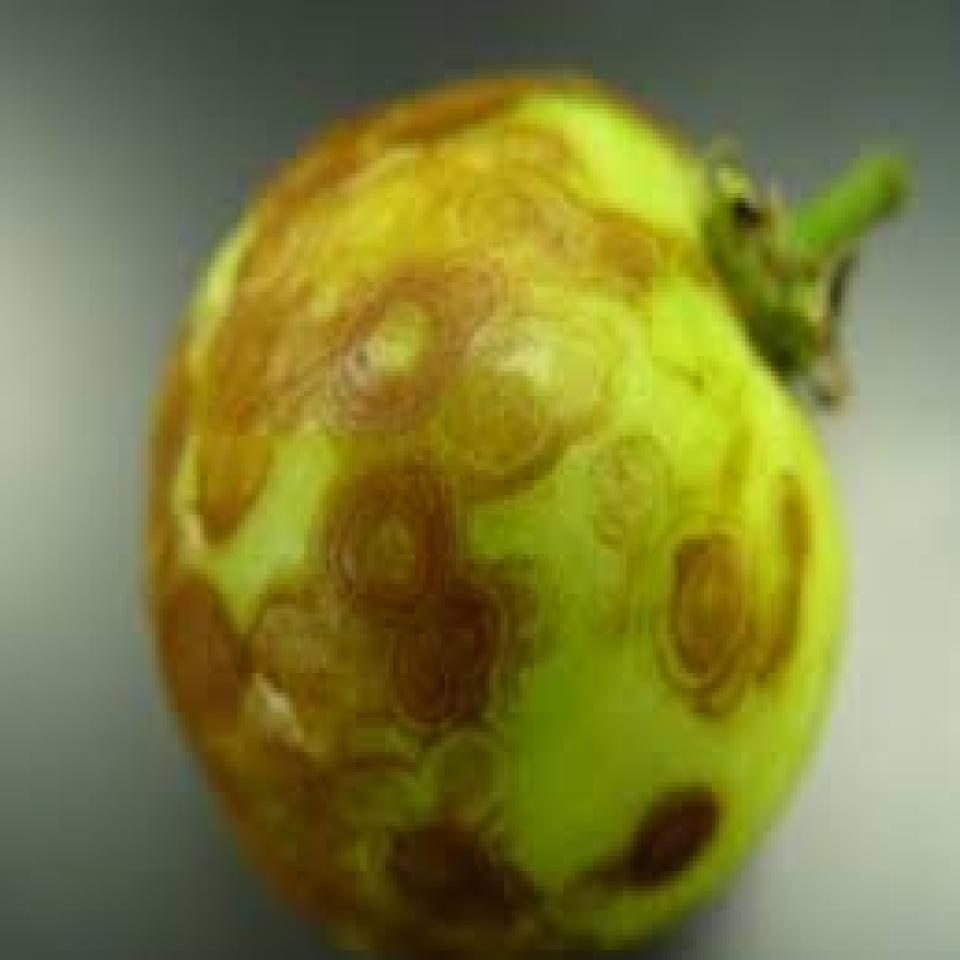Spotted wilt Virus: (148, 79, 849, 955)
